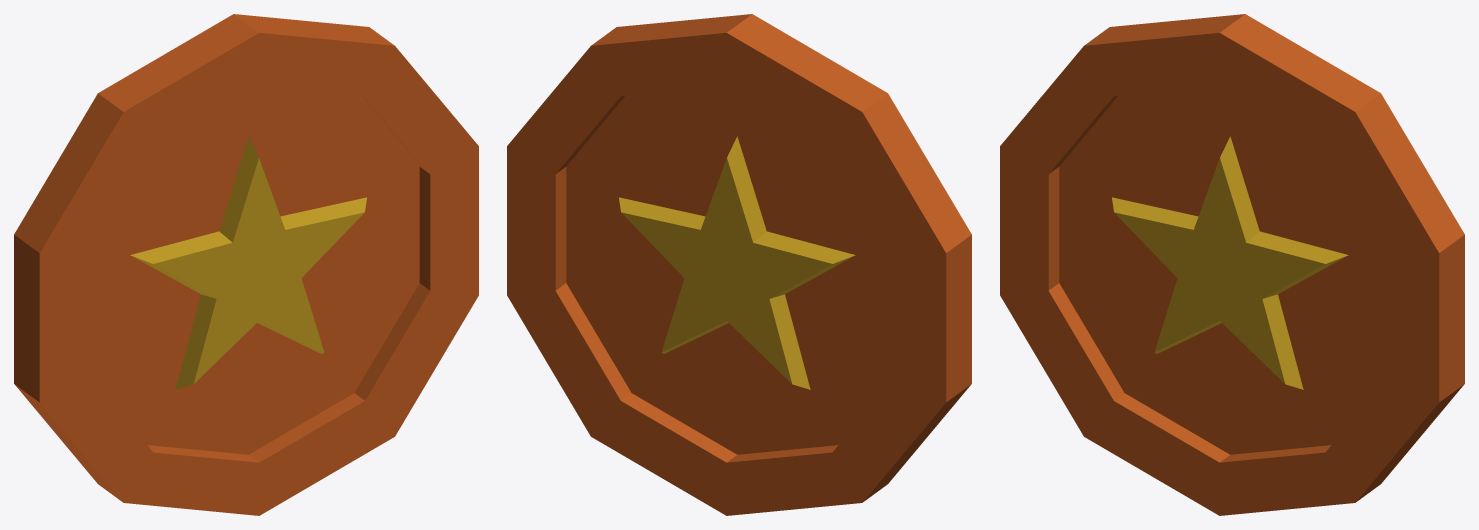
File: coin.fbx
3 views of the same model, side by side, from view 1: azimuth 30°, elevation 25°; view 2: azimuth 150°, elevation 25°; view 3: azimuth 330°, elevation 25° (orthographic).
Parts seen in each view (by area): view 1: Cylinder; view 2: Cylinder; view 3: Cylinder.
Part boxes in pixels (left/top/right/bottom): Cylinder: left=14, top=14, right=478, bottom=515; Cylinder: left=507, top=14, right=971, bottom=515; Cylinder: left=1000, top=14, right=1464, bottom=515.
Size of the model in its own units: 175 by 184 by 17.78.
